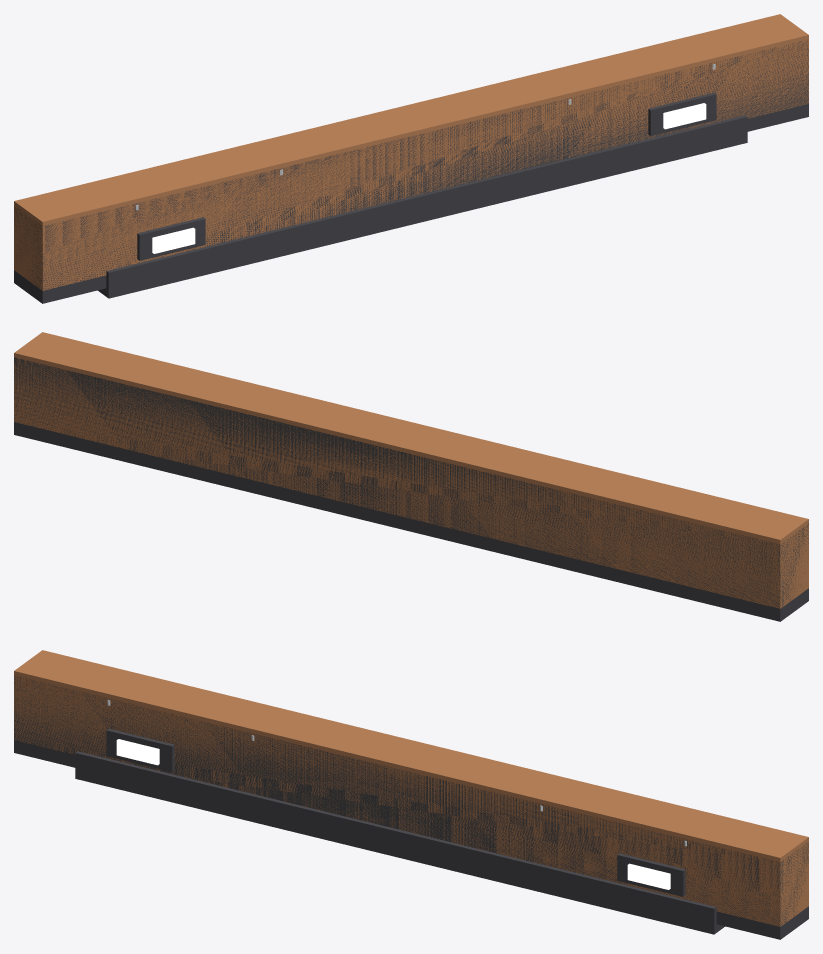
The model's file is bp-factory.glb.
3 views of the same model, one above another, from view 1: azimuth 30°, elevation 25°; view 2: azimuth 150°, elevation 25°; view 3: azimuth 330°, elevation 25° (orthographic).
Parts seen in each view (by area): view 1: Paint, PlasticLOD, Plastic, Plastic.002, Plastic.001, Light, Light.001; view 2: Paint, PlasticLOD; view 3: Paint, PlasticLOD, Plastic, Plastic.001, Plastic.002, Light, Light.001.
Part boxes in pixels (x1=…): Paint: x1=14, y1=14, x2=808, y2=290; PlasticLOD: x1=14, y1=40, x2=808, y2=303; Plastic: x1=98, y1=115, x2=747, y2=298; Plastic.002: x1=648, y1=92, x2=716, y2=136; Plastic.001: x1=137, y1=217, x2=205, y2=260; Light: x1=152, y1=227, x2=195, y2=253; Light.001: x1=663, y1=103, x2=706, y2=129; Paint: x1=14, y1=332, x2=808, y2=608; PlasticLOD: x1=14, y1=357, x2=808, y2=621; Paint: x1=14, y1=650, x2=808, y2=926; PlasticLOD: x1=14, y1=675, x2=808, y2=939; Plastic: x1=75, y1=751, x2=724, y2=934; Plastic.001: x1=106, y1=728, x2=174, y2=772; Plastic.002: x1=617, y1=853, x2=685, y2=896; Light: x1=116, y1=739, x2=159, y2=765; Light.001: x1=627, y1=863, x2=670, y2=889.
Bounding box in the file's own units: 1.86 × 0.21 × 0.139.
